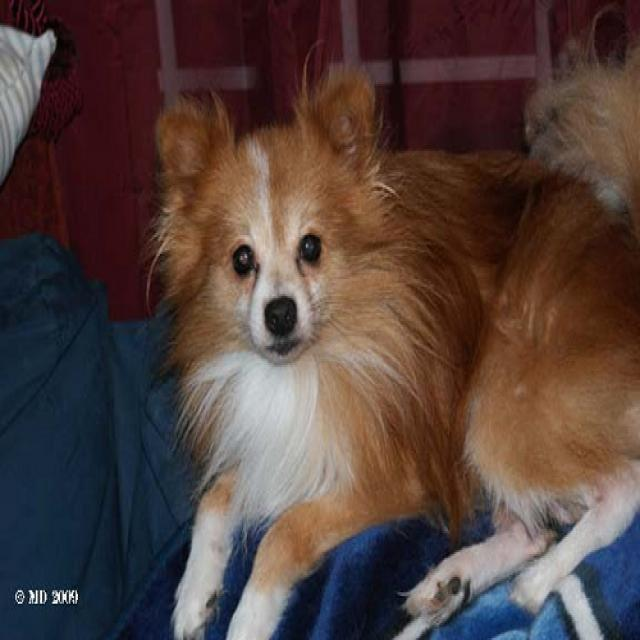dog-pomeranian: (136, 36, 637, 636)
